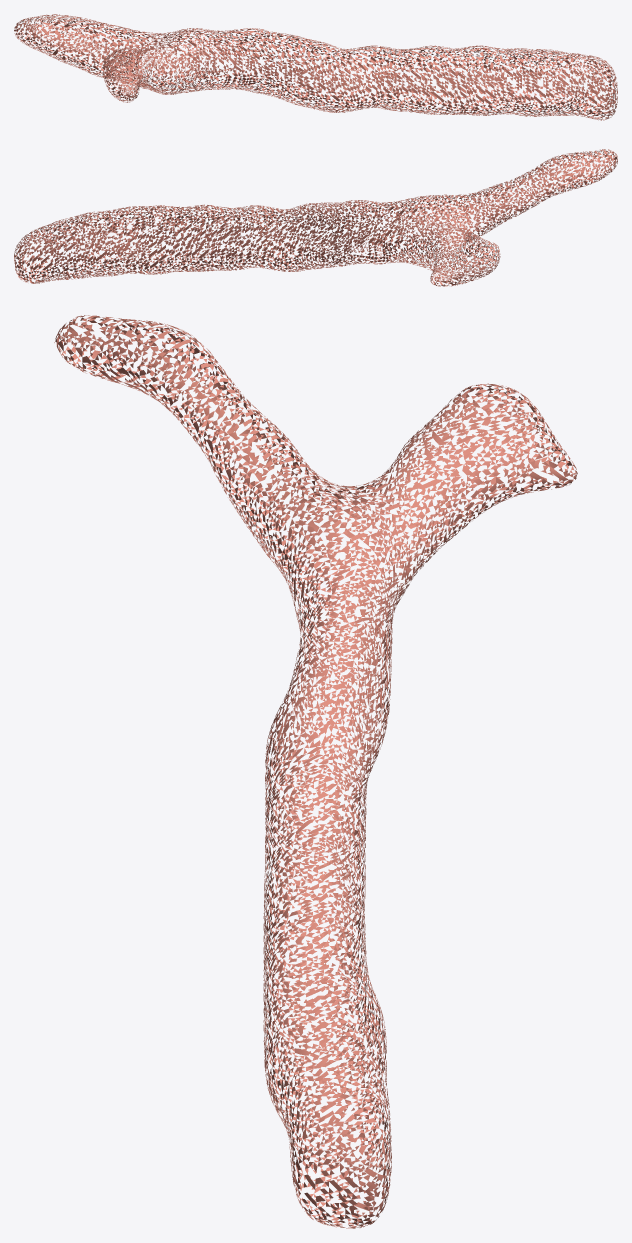
The model's file is morph_002.glb.
The picture shows the model from 3 angles, top to bottom: view 1: azimuth 30°, elevation 25°; view 2: azimuth 150°, elevation 25°; view 3: azimuth 270°, elevation 25°; orthographic projection. The views are drawn at different scales.
Bounding box in the file's own units: 141 × 53.36 × 60.13.
